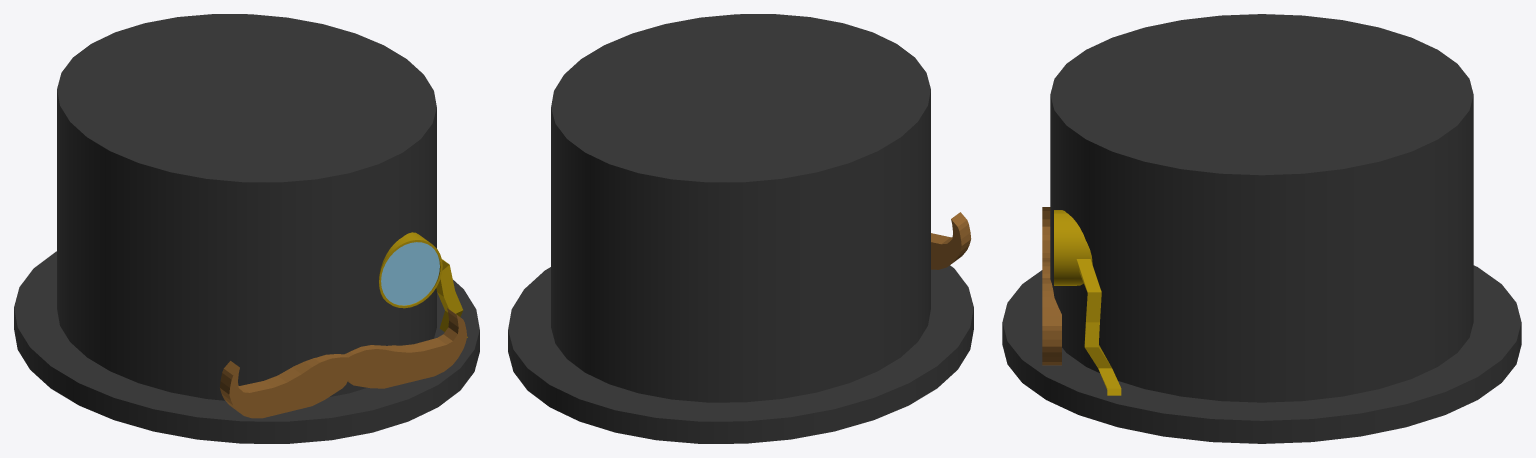
The model's file is outfit_gent_top_hat.glb.
3 views of the same model, side by side, from view 1: azimuth 30°, elevation 25°; view 2: azimuth 150°, elevation 25°; view 3: azimuth 270°, elevation 25° (orthographic). The views are drawn at different scales.
Parts seen in each view (by area): view 1: outfit_gent_top_hat; view 2: outfit_gent_top_hat; view 3: outfit_gent_top_hat.
Part boxes in pixels (left/top/right/bottom): outfit_gent_top_hat: left=14, top=14, right=479, bottom=443; outfit_gent_top_hat: left=508, top=14, right=973, bottom=443; outfit_gent_top_hat: left=1002, top=14, right=1521, bottom=443.
Size of the model in its own units: 0.508 by 0.3 by 0.5635.
1 material, 1 textured.
